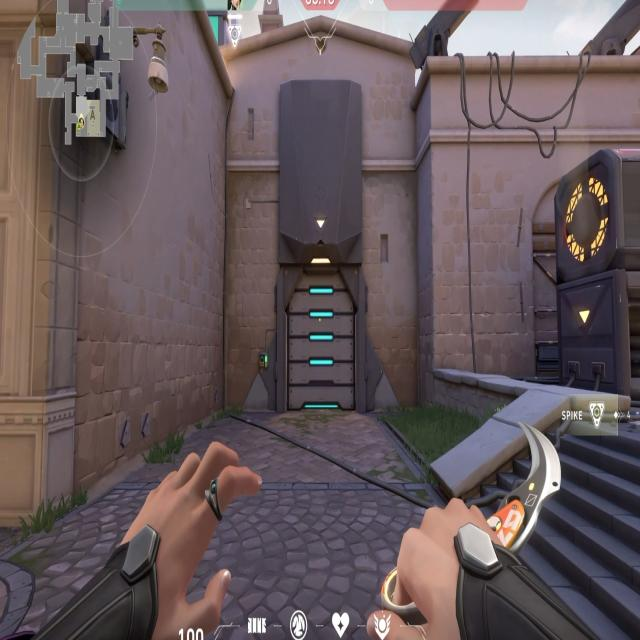A_Door: (280, 263, 360, 416)
